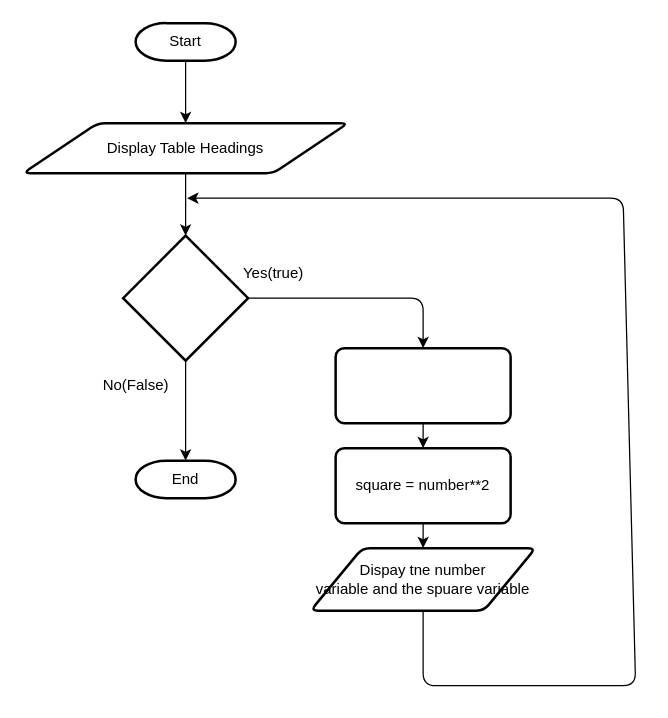
Image size: 668x718. Some labels were removed from this diagram. Each missing label, with the box of its shape:
Assign the next value in the list to number: (334, 346, 511, 424)
number in range (1,11): (121, 234, 249, 361)
